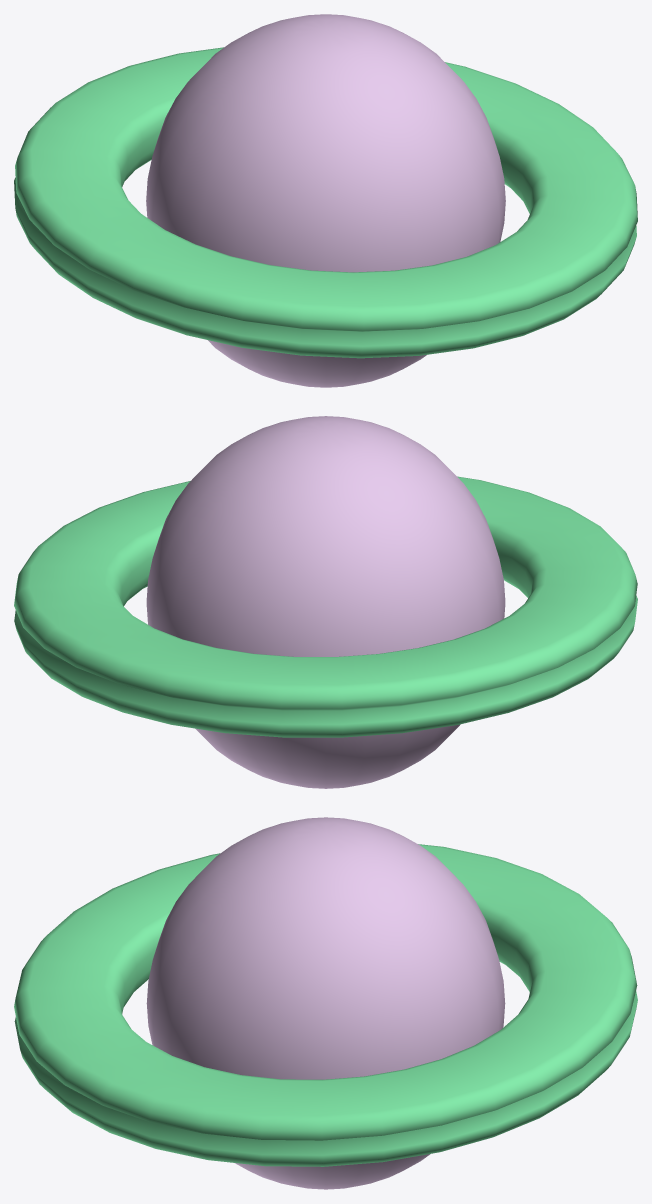
Rendered from planet-1.gltf.
The picture shows the model from 3 angles, top to bottom: view 1: azimuth 30°, elevation 25°; view 2: azimuth 150°, elevation 25°; view 3: azimuth 270°, elevation 25°; orthographic projection.
Parts seen in each view (by area): view 1: Cylinder, Sphere; view 2: Sphere, Cylinder; view 3: Cylinder, Sphere.
Part boxes in pixels (left/top/right/bottom): Cylinder: left=14, top=47, right=637, bottom=358; Sphere: left=146, top=14, right=505, bottom=387; Sphere: left=146, top=416, right=505, bottom=788; Cylinder: left=14, top=476, right=637, bottom=737; Cylinder: left=14, top=844, right=637, bottom=1166; Sphere: left=146, top=817, right=505, bottom=1189.
Bounding box in the file's own units: 3.29 × 1.98 × 3.29.
